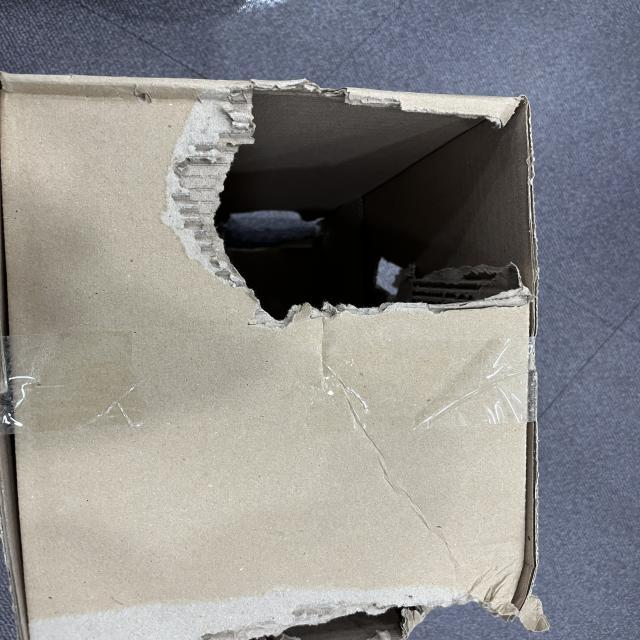hole: (177, 80, 535, 306), (240, 598, 428, 640)
